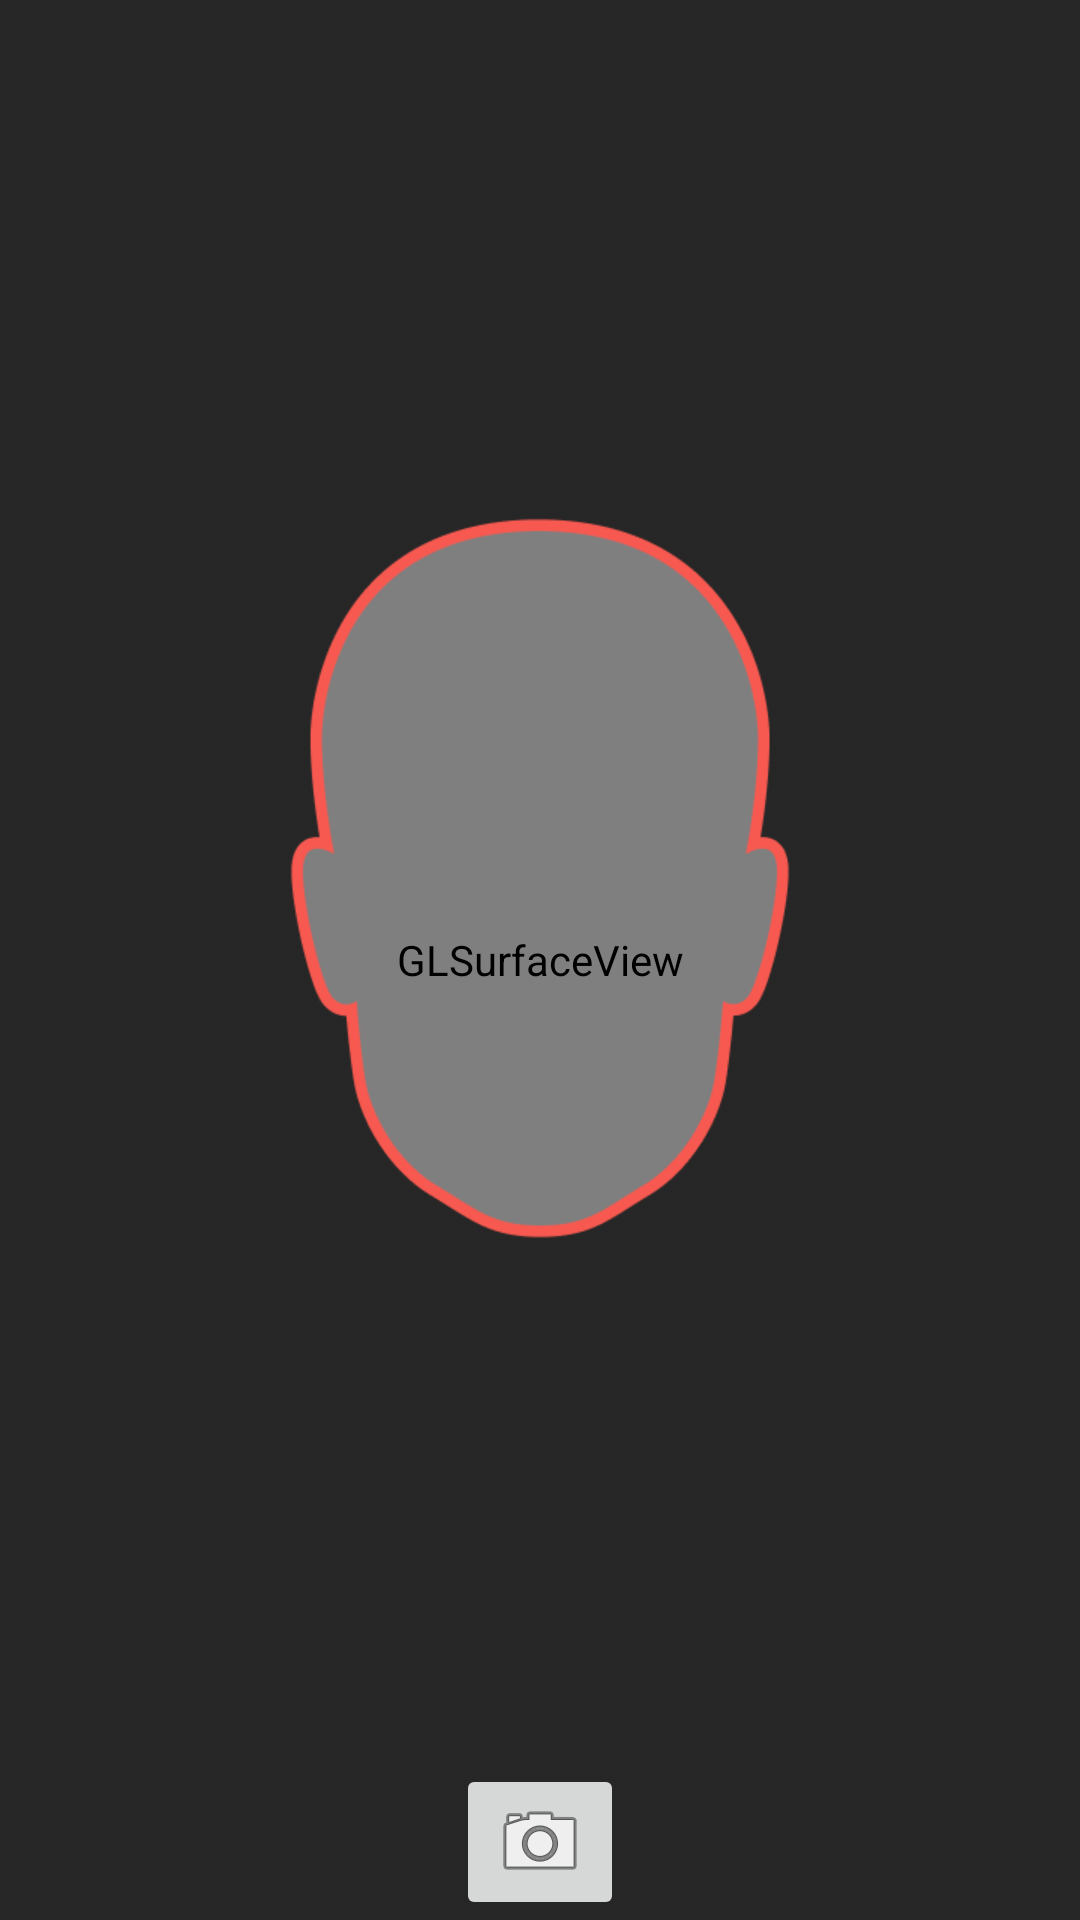

Locate icon controls on the screen. Image size 1080px×1920px, boxes as box(x1, y1, x2, y2).
camera: box(468, 1782, 612, 1902)
